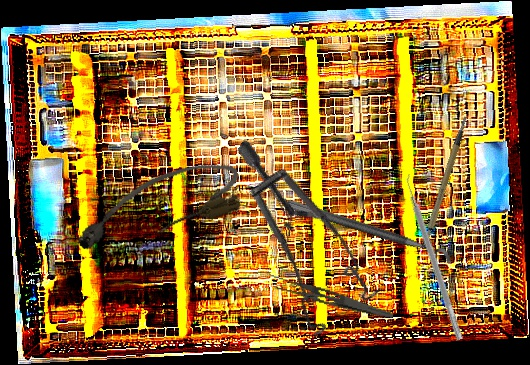Cannula: (66, 151, 249, 262)
Dressing Forceps: (267, 272, 397, 320)
Fixation Ring: (281, 197, 455, 276)
Scalpel Handle: (404, 115, 489, 250)
Spatula Surgical: (400, 172, 471, 341)
Speculum: (175, 138, 411, 354)
